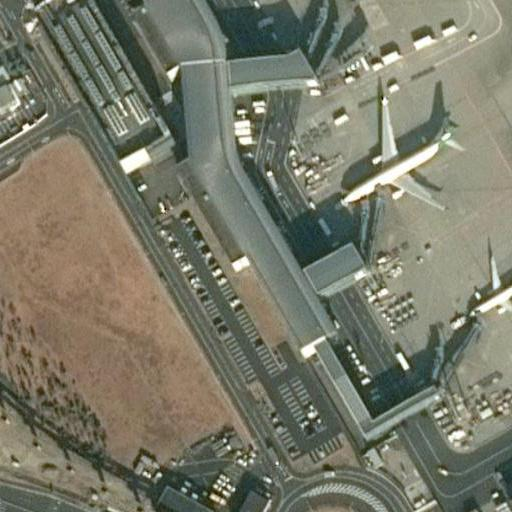Aircraft: (333, 94, 464, 223), (460, 257, 512, 318)
